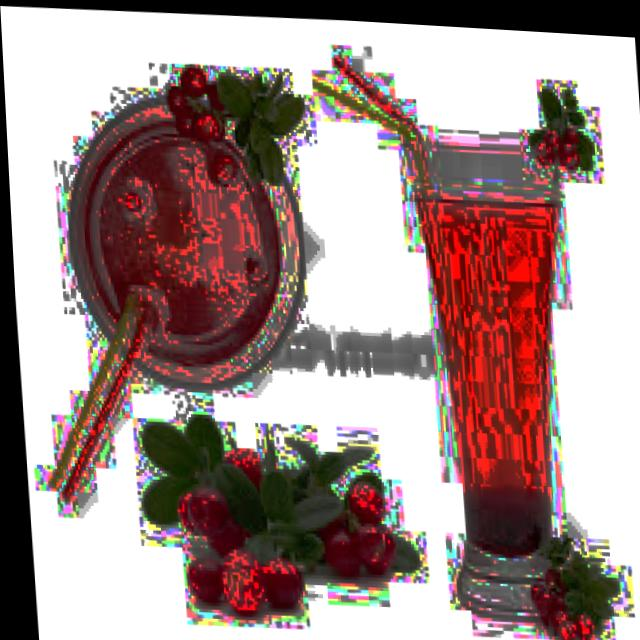drink: (404, 128, 594, 633)
